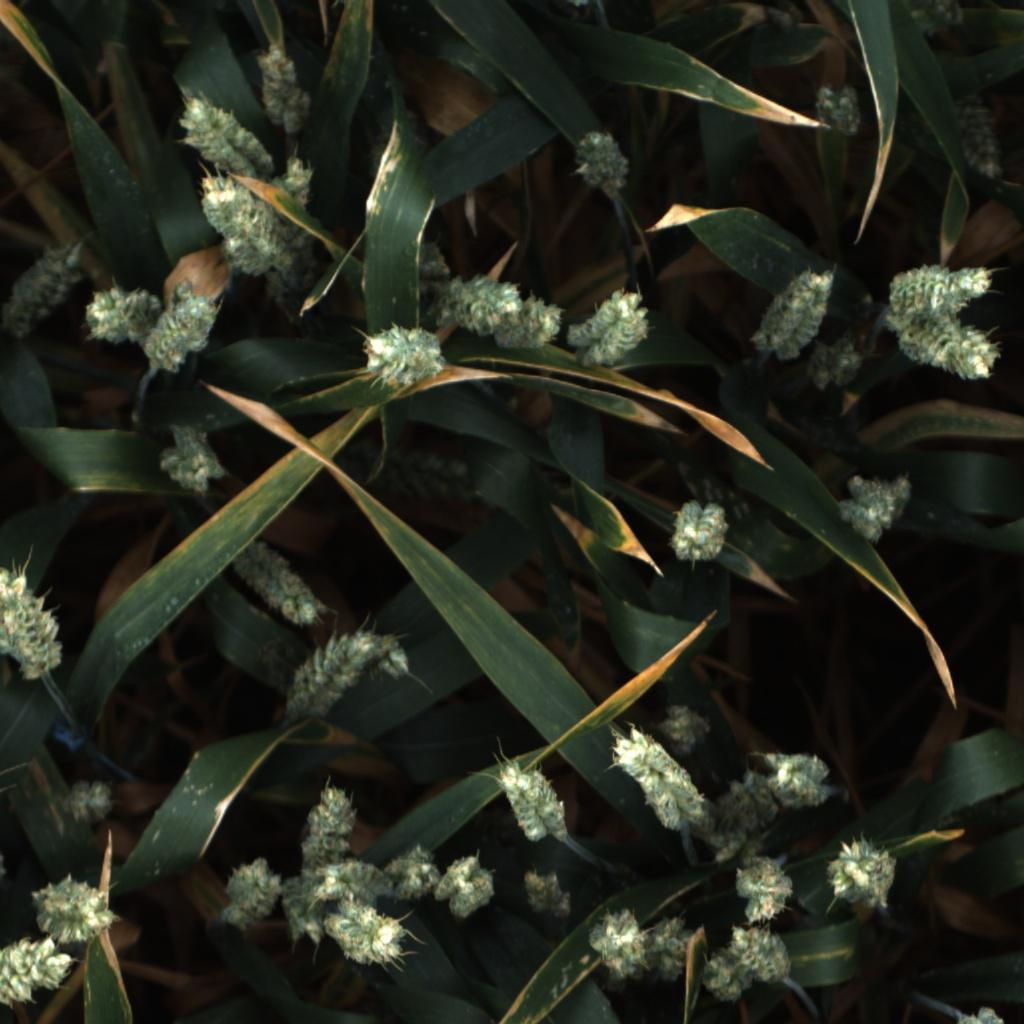0-0: (328, 437, 483, 506), (268, 153, 332, 313), (281, 629, 383, 729), (613, 730, 710, 834), (745, 263, 847, 360), (228, 537, 329, 631), (197, 171, 281, 277), (0, 238, 84, 335), (0, 562, 69, 680), (139, 293, 228, 380), (289, 782, 365, 883), (878, 257, 996, 321), (358, 318, 451, 399), (885, 315, 997, 382), (493, 757, 575, 848), (174, 89, 258, 174), (27, 871, 121, 946), (569, 286, 652, 367), (321, 897, 407, 968), (150, 424, 232, 497), (823, 835, 900, 911), (253, 40, 315, 133), (833, 474, 915, 544), (661, 493, 737, 566), (430, 275, 524, 334), (82, 278, 165, 344), (0, 935, 69, 1011), (950, 100, 1010, 183), (219, 854, 282, 931), (495, 297, 576, 356), (587, 909, 646, 989), (723, 923, 803, 982), (760, 749, 836, 811), (432, 855, 503, 921), (732, 859, 803, 925), (572, 127, 636, 199), (640, 910, 697, 988), (275, 871, 331, 945), (307, 859, 392, 907), (799, 337, 866, 396), (695, 948, 758, 1008), (383, 844, 441, 907), (56, 772, 120, 829), (726, 770, 782, 835), (811, 79, 870, 140), (512, 864, 572, 919), (657, 700, 714, 754), (369, 627, 413, 684), (901, 0, 963, 39), (409, 238, 453, 292), (711, 791, 744, 827), (714, 832, 745, 866), (953, 1004, 1006, 1023), (690, 825, 726, 849), (740, 836, 765, 867)
